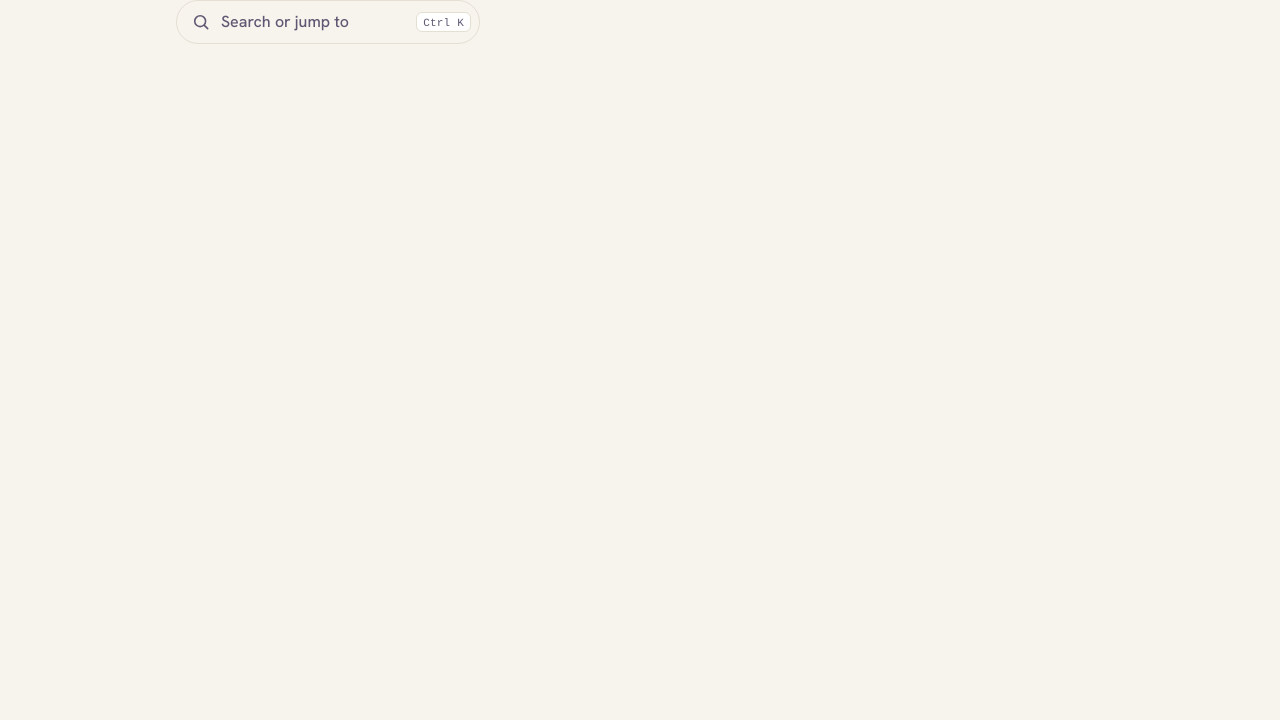
Test: CommandPalette › filters as you type, marks the typed letters, and opens the active option with Enter
Press k
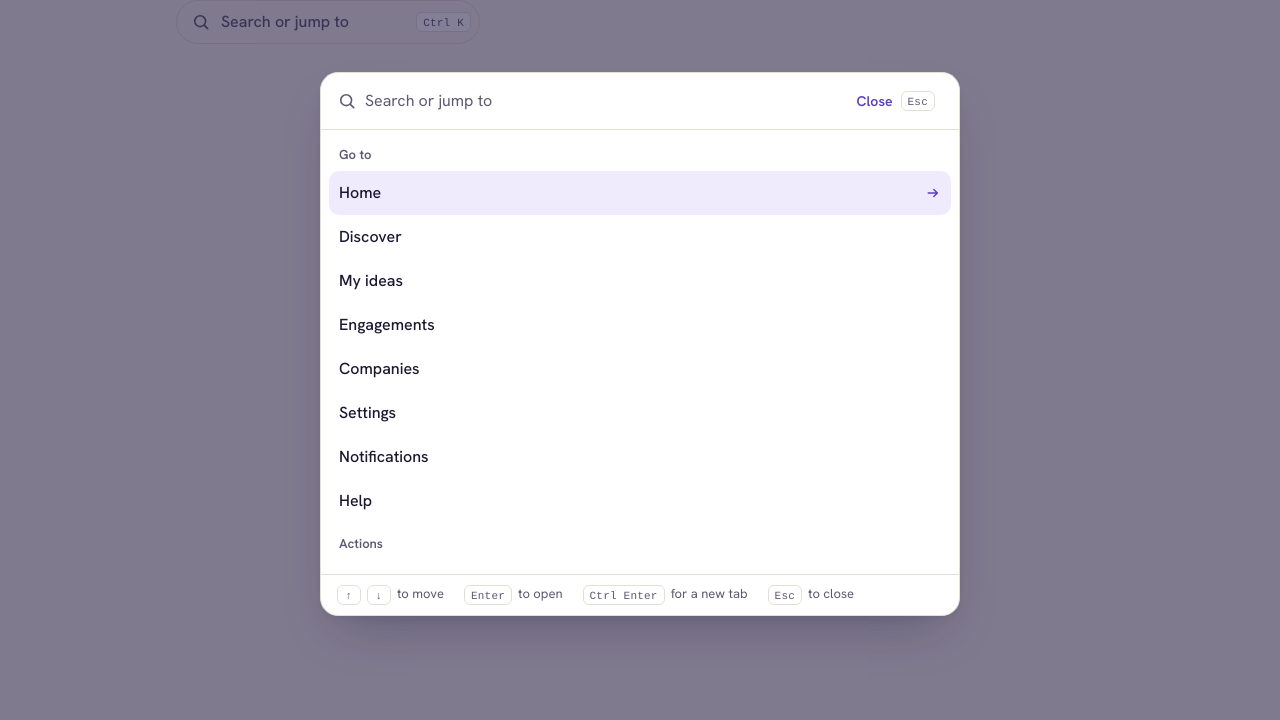
Type "disc" into the dropdown at (603, 101), box left=365, top=73, right=841, bottom=129
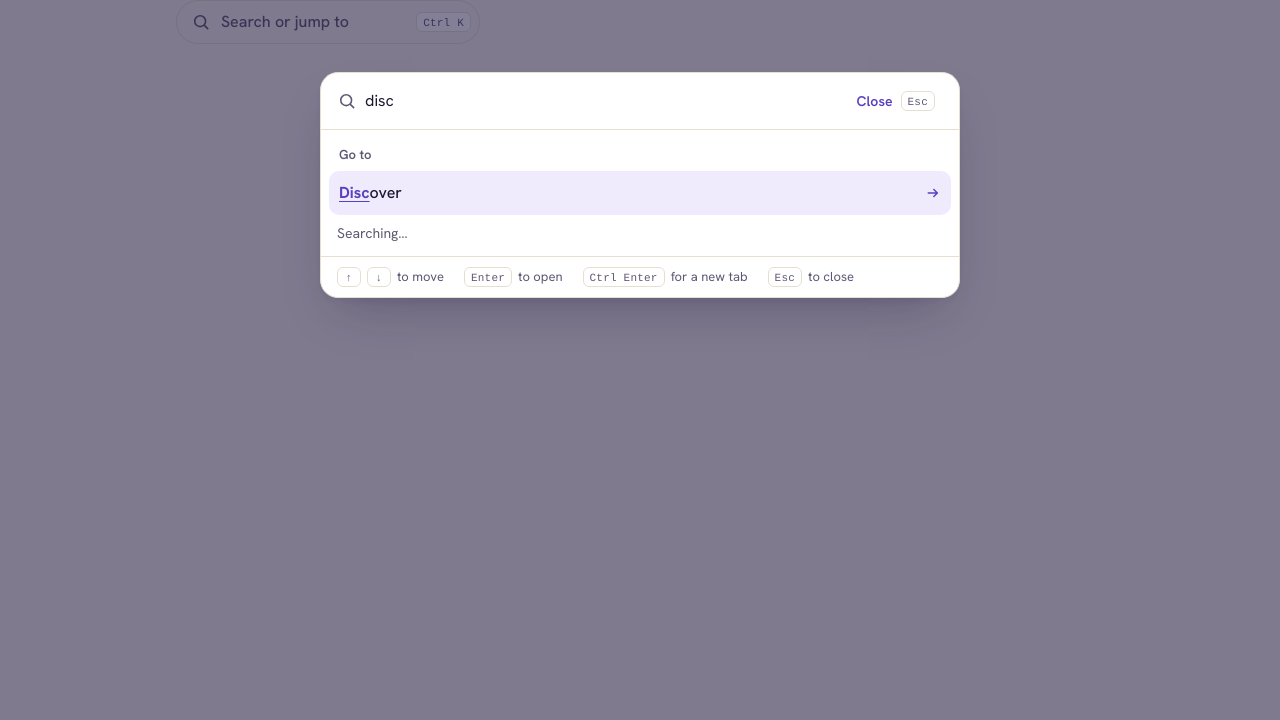
Check: the text "Disc" is shown, box left=339, top=182, right=370, bottom=203
Press Enter in the dropdown, box left=365, top=73, right=841, bottom=129
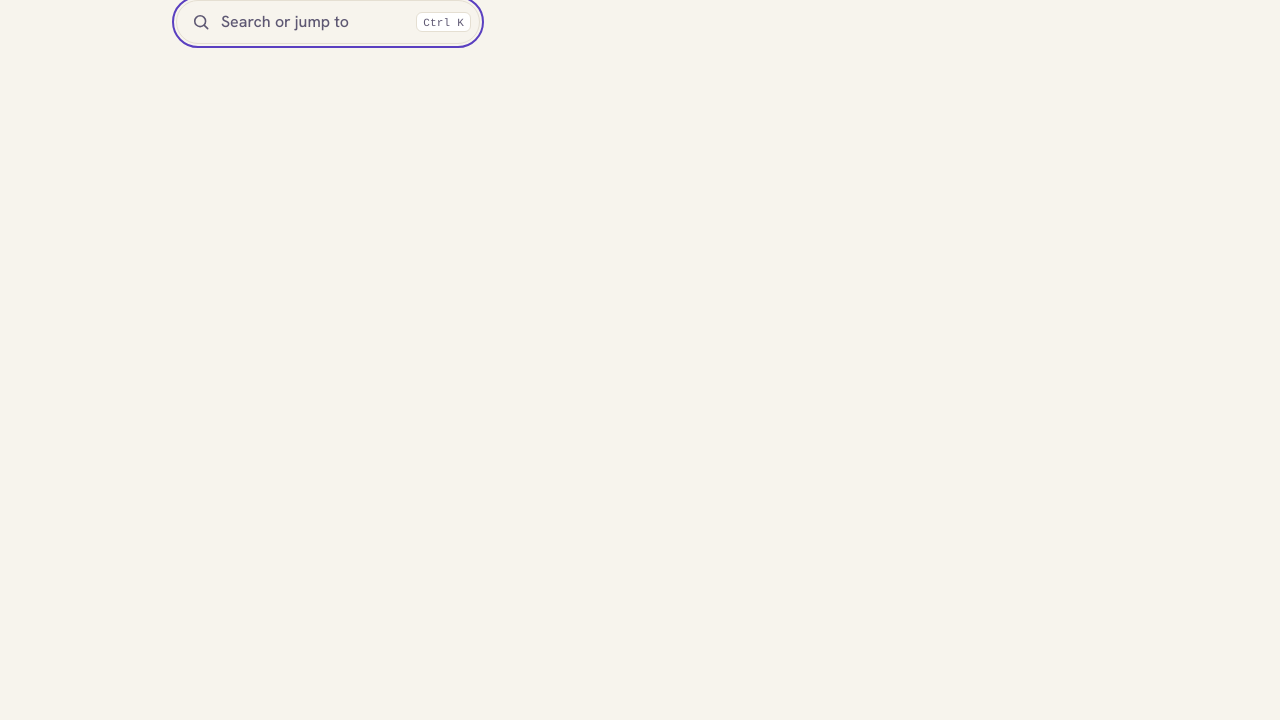
Check: the dialog is gone
